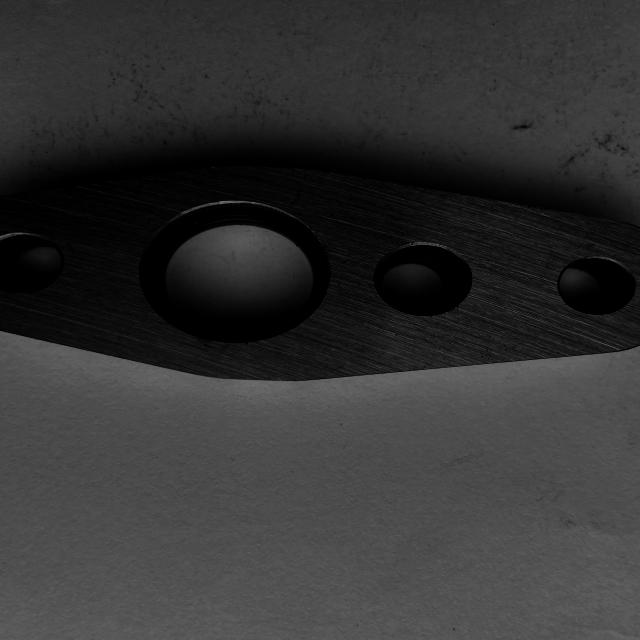chap: (134, 182, 146, 196), (340, 258, 349, 266), (244, 340, 252, 348)
